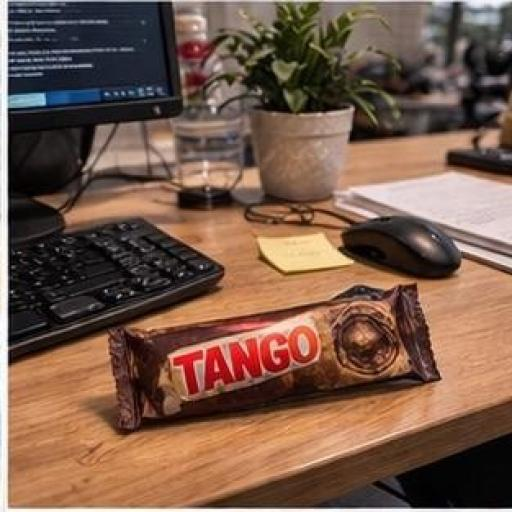tango: (109, 300, 492, 449)
